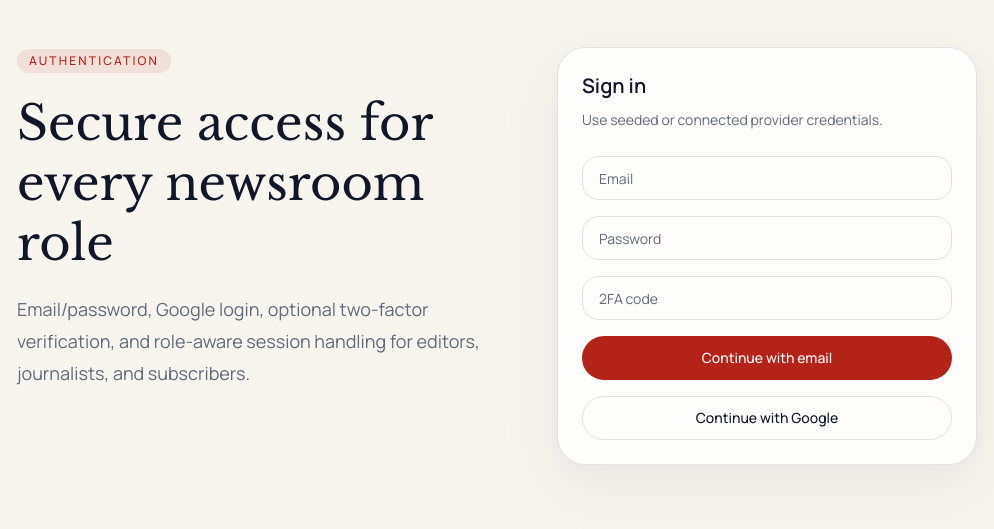
Test: LoginPage › shows a signing in state and redirects on success
Type "admin@vanterenpress.com" into the field with placeholder "Email" at [767, 178], box [582,156,952,200]
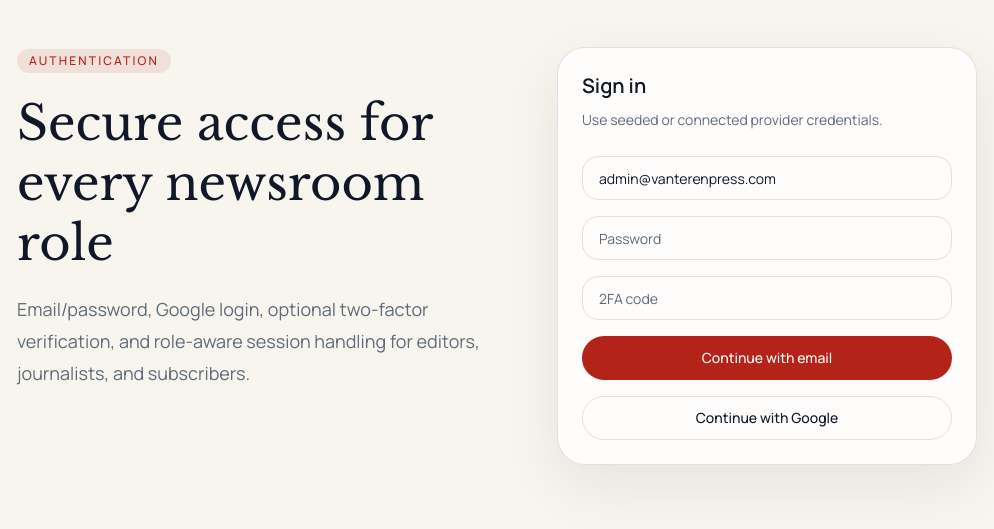
Type "Password123!" into the password field with placeholder "Password" at [767, 238], box [582,216,952,260]
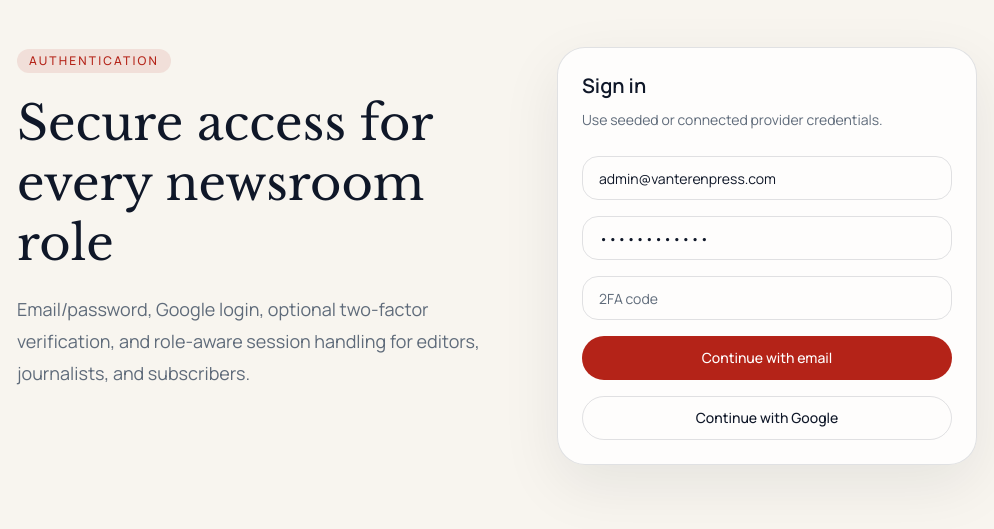
Click the button "Continue with email" at [767, 358], box [582,336,952,380]
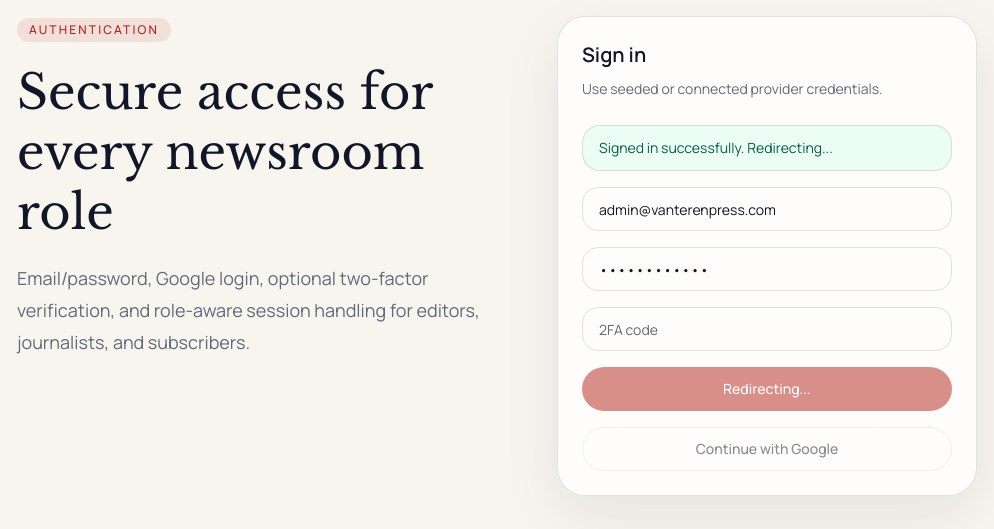
expect the button named "Signing in..." is disabled: met, box [582,367,952,411]
expect the text "Signed in successfully. Redirecting..." is shown: met, box [582,125,952,171]
